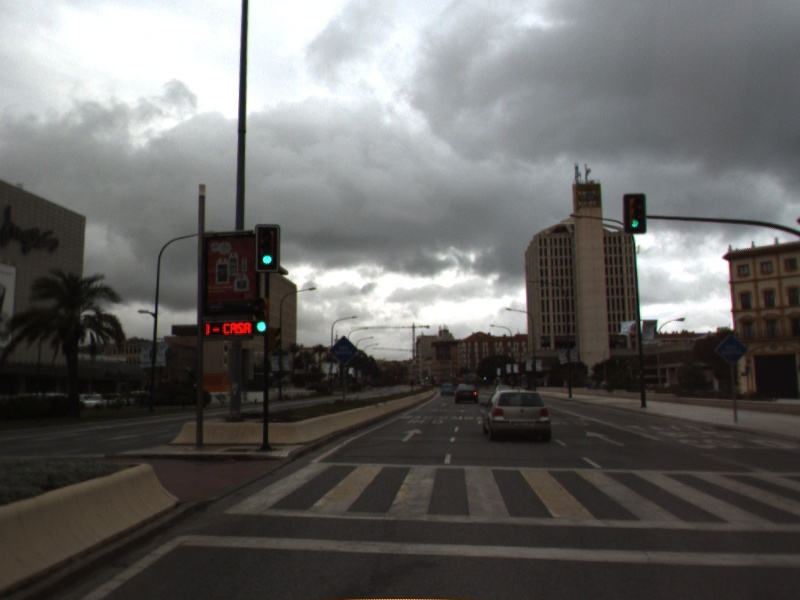STRAIGHT: (583, 428, 627, 449), (399, 426, 425, 444)
